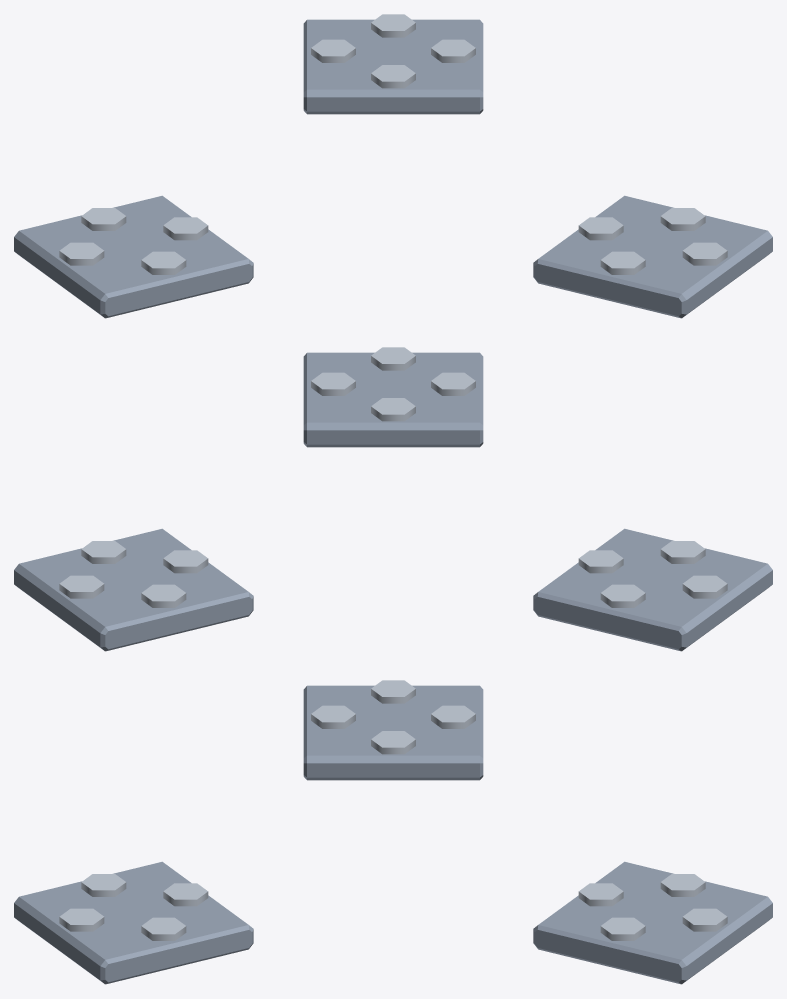
File: tower_singularity_range_s2.glb
3 views of the same model, one above another, from view 1: azimuth 30°, elevation 25°; view 2: azimuth 150°, elevation 25°; view 3: azimuth 270°, elevation 25° (orthographic).
Parts seen in each view (by area): view 1: singularity_foot_plate0, singularity_foot_plate1, singularity_foot_plate2, singularity_foot_plate_bolts0, singularity_foot_plate_bolts1, singularity_foot_plate_bolts2; view 2: singularity_foot_plate0, singularity_foot_plate2, singularity_foot_plate1, singularity_foot_plate_bolts0, singularity_foot_plate_bolts2, singularity_foot_plate_bolts1; view 3: singularity_foot_plate1, singularity_foot_plate2, singularity_foot_plate0, singularity_foot_plate_bolts1, singularity_foot_plate_bolts2, singularity_foot_plate_bolts0.
Boxes of the visible parts, <box> form: singularity_foot_plate0: <box>14,195,253,318</box>; singularity_foot_plate1: <box>533,195,772,318</box>; singularity_foot_plate2: <box>303,19,483,114</box>; singularity_foot_plate_bolts0: <box>59,208,208,274</box>; singularity_foot_plate_bolts1: <box>578,208,727,274</box>; singularity_foot_plate_bolts2: <box>311,14,475,88</box>; singularity_foot_plate0: <box>533,528,772,651</box>; singularity_foot_plate2: <box>14,528,253,651</box>; singularity_foot_plate1: <box>303,352,483,447</box>; singularity_foot_plate_bolts0: <box>578,541,727,607</box>; singularity_foot_plate_bolts2: <box>59,541,208,607</box>; singularity_foot_plate_bolts1: <box>311,347,475,421</box>; singularity_foot_plate1: <box>14,861,253,984</box>; singularity_foot_plate2: <box>533,861,772,984</box>; singularity_foot_plate0: <box>303,685,483,780</box>; singularity_foot_plate_bolts1: <box>59,874,208,940</box>; singularity_foot_plate_bolts2: <box>578,874,727,940</box>; singularity_foot_plate_bolts0: <box>311,680,475,754</box>.
Size of the model in its own units: 1.32 by 0.0692 by 1.52.
